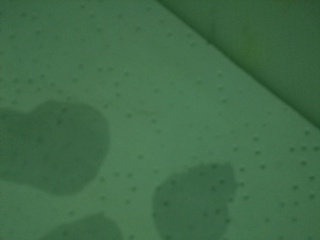Water_detected: (0, 109, 90, 187), (154, 175, 213, 235)
